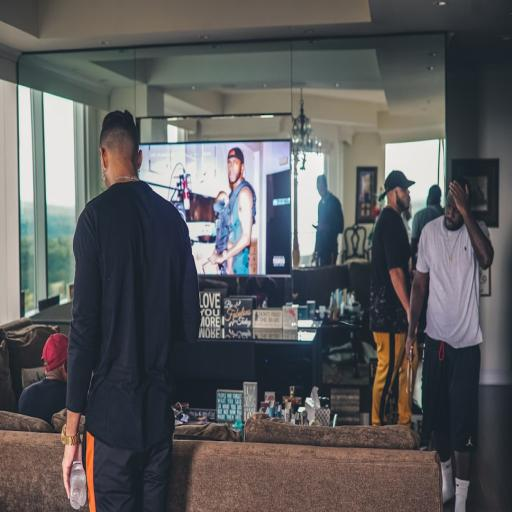face: (445, 193, 463, 230), (394, 186, 411, 212)
